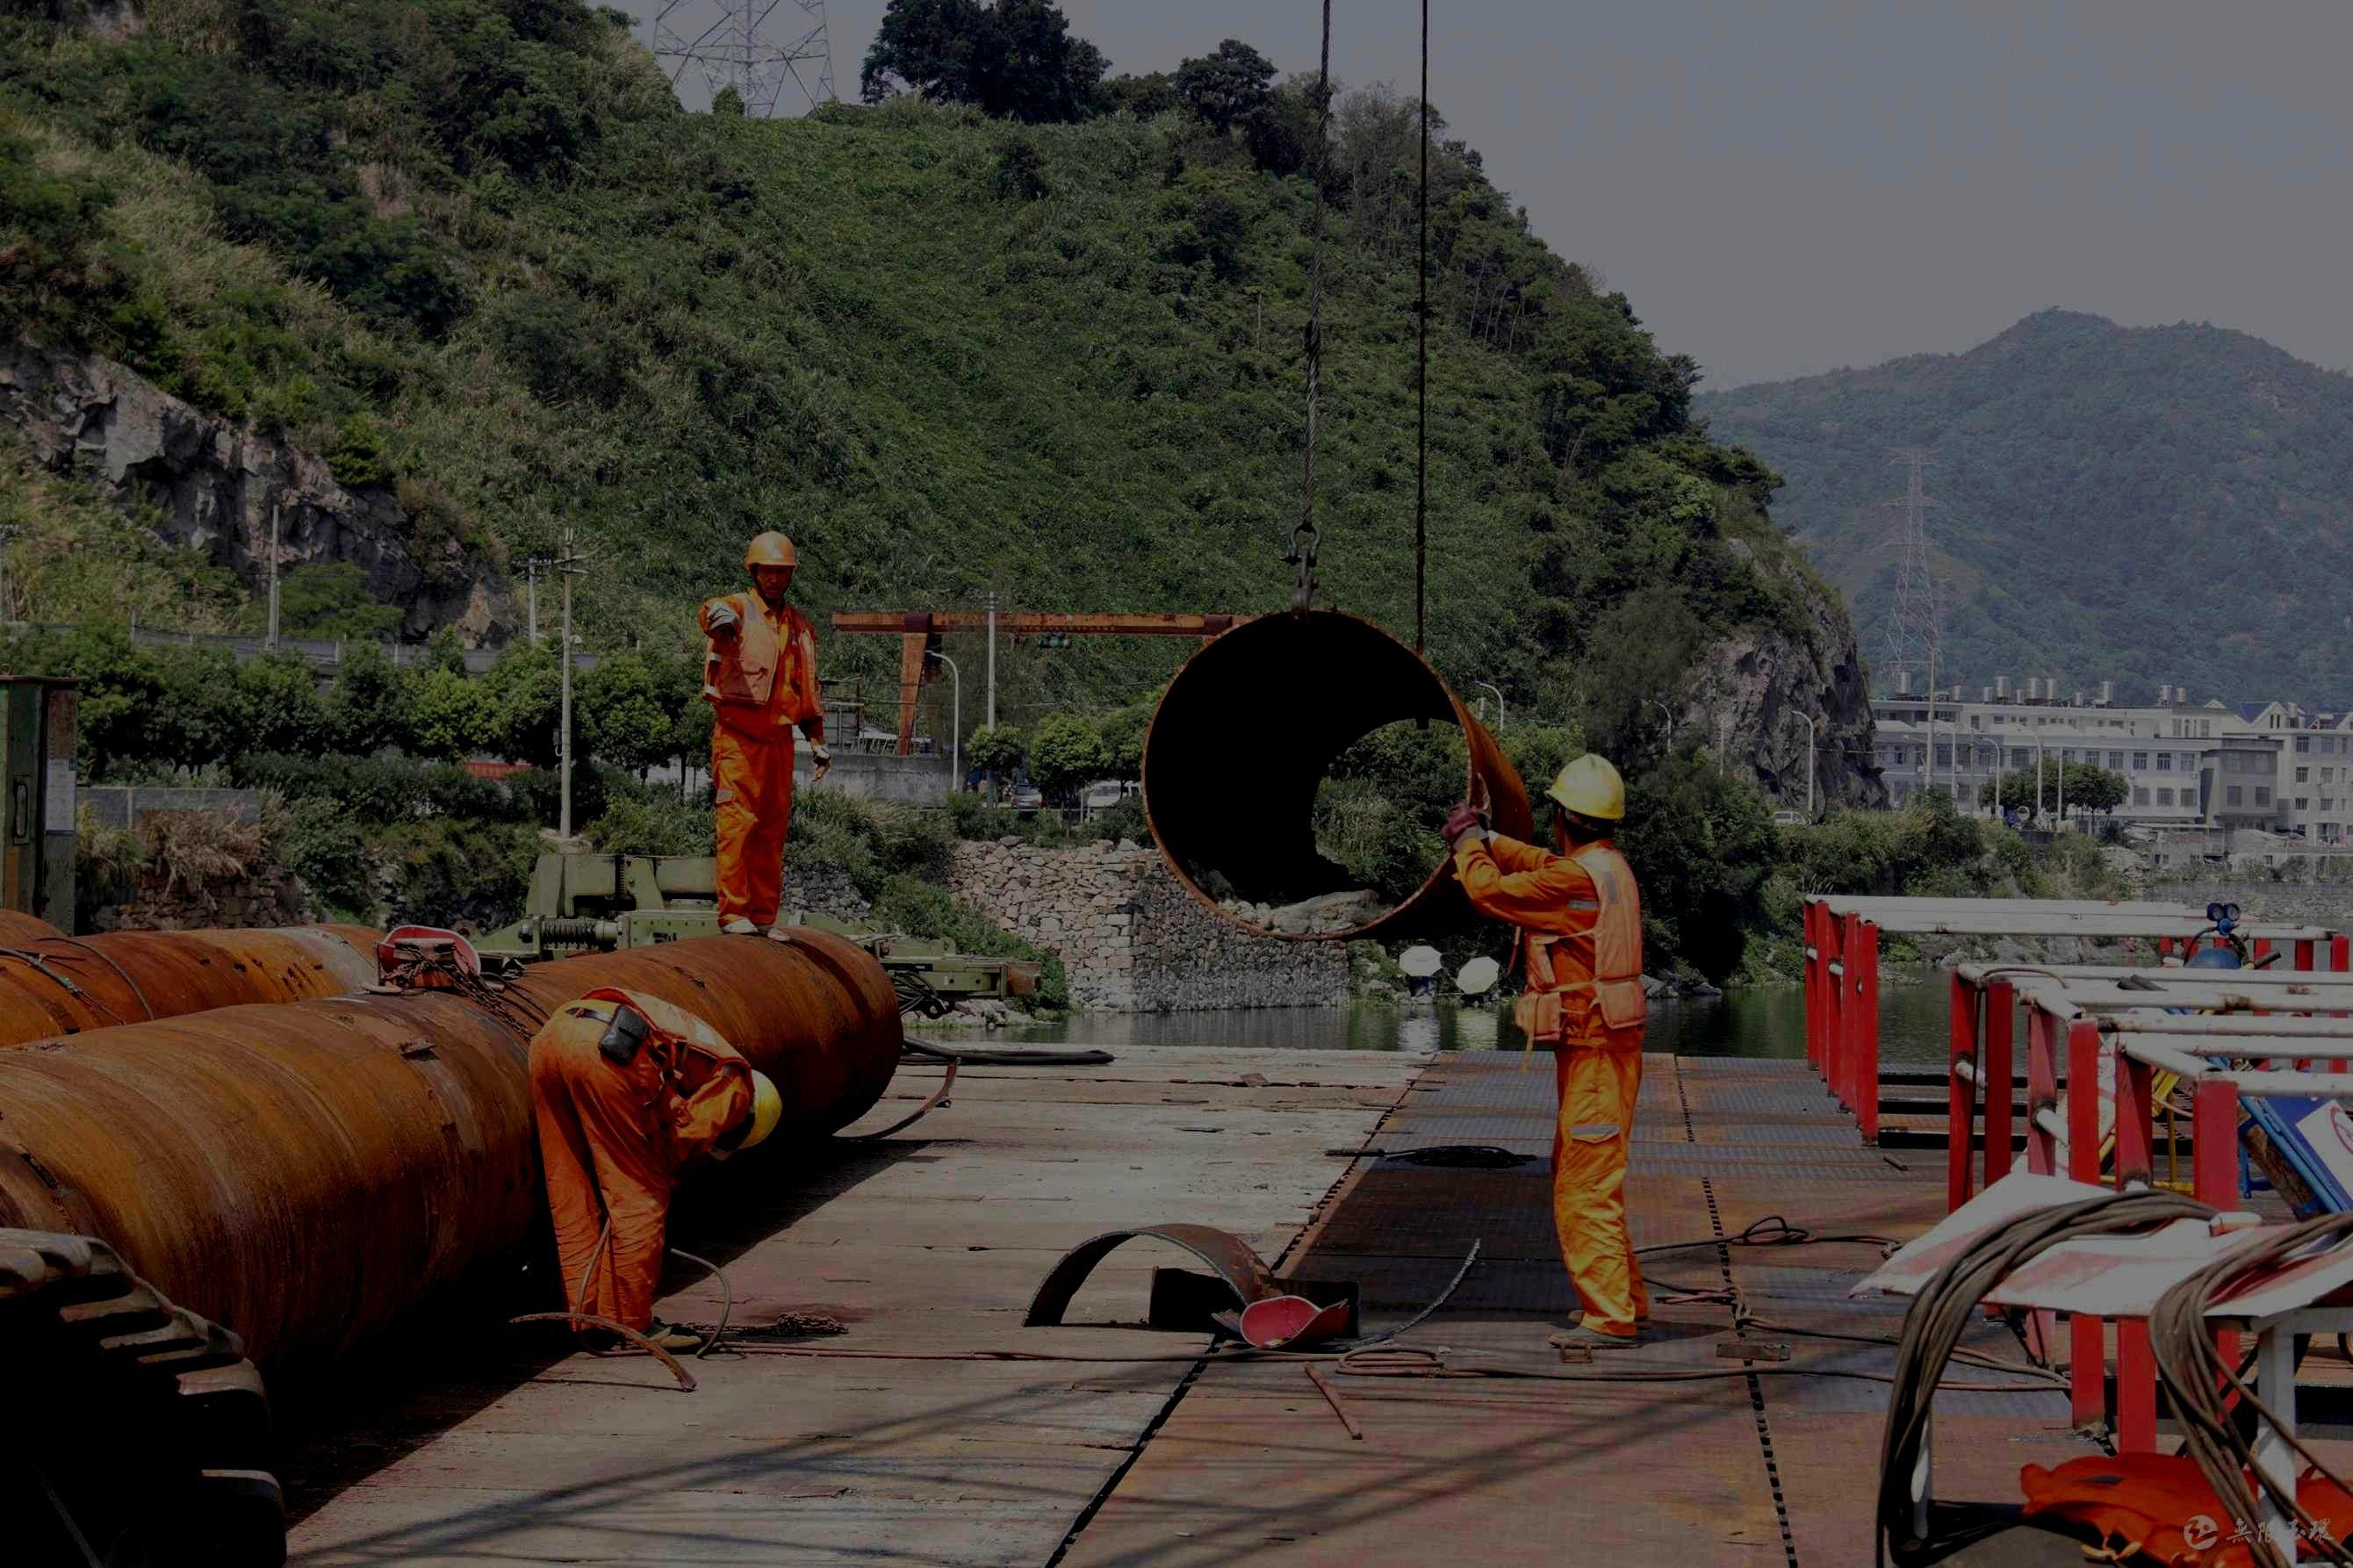helmet: (1543, 751, 1625, 854), (744, 530, 798, 600), (737, 1067, 782, 1150)
